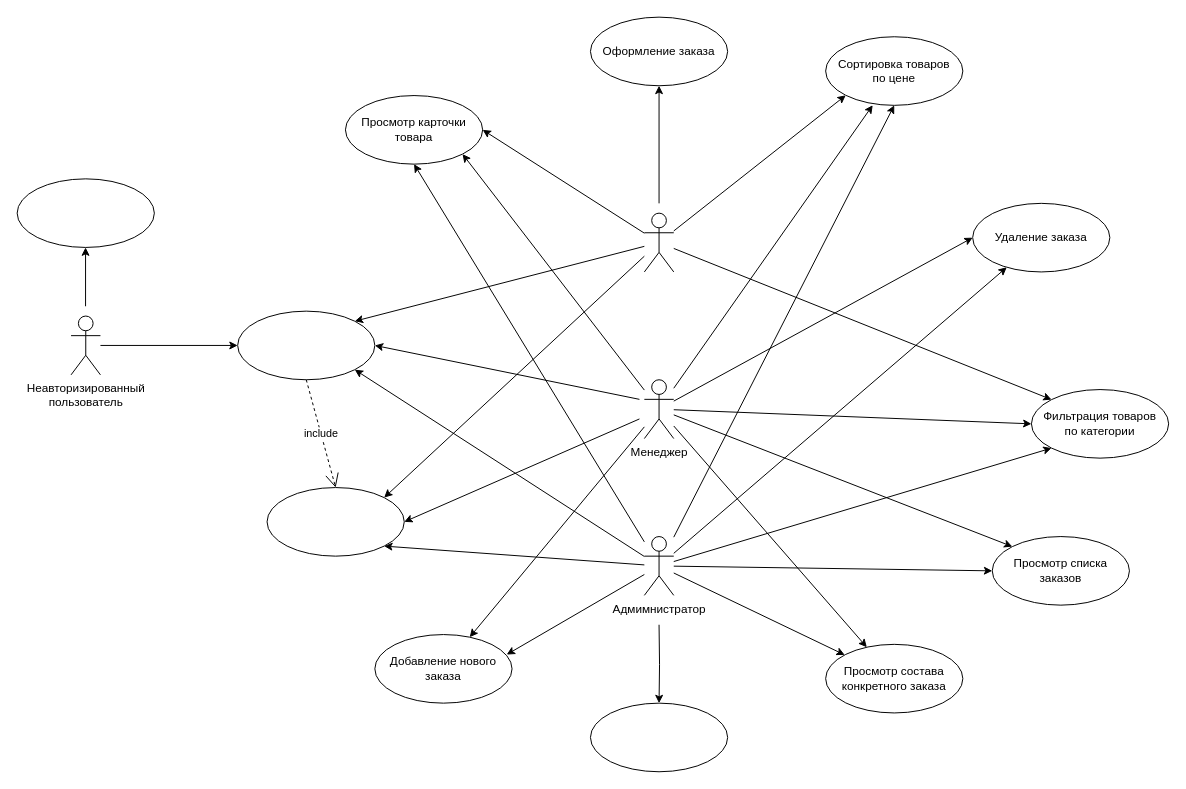
This 1186x789 diagram has some shape labels left out. The centre of each missing label's shape, as x and y in pixels:
"Авторизация в системе" goes at point 306,345.
"Авторизированный пользователь" goes at point 658,242.
"Поиск товаров по названию и описанию" goes at point 335,521.
"Просмотр каталога товаров без фильтрации" goes at point 85,212.
"Редактирование заказа" goes at point 658,737.
